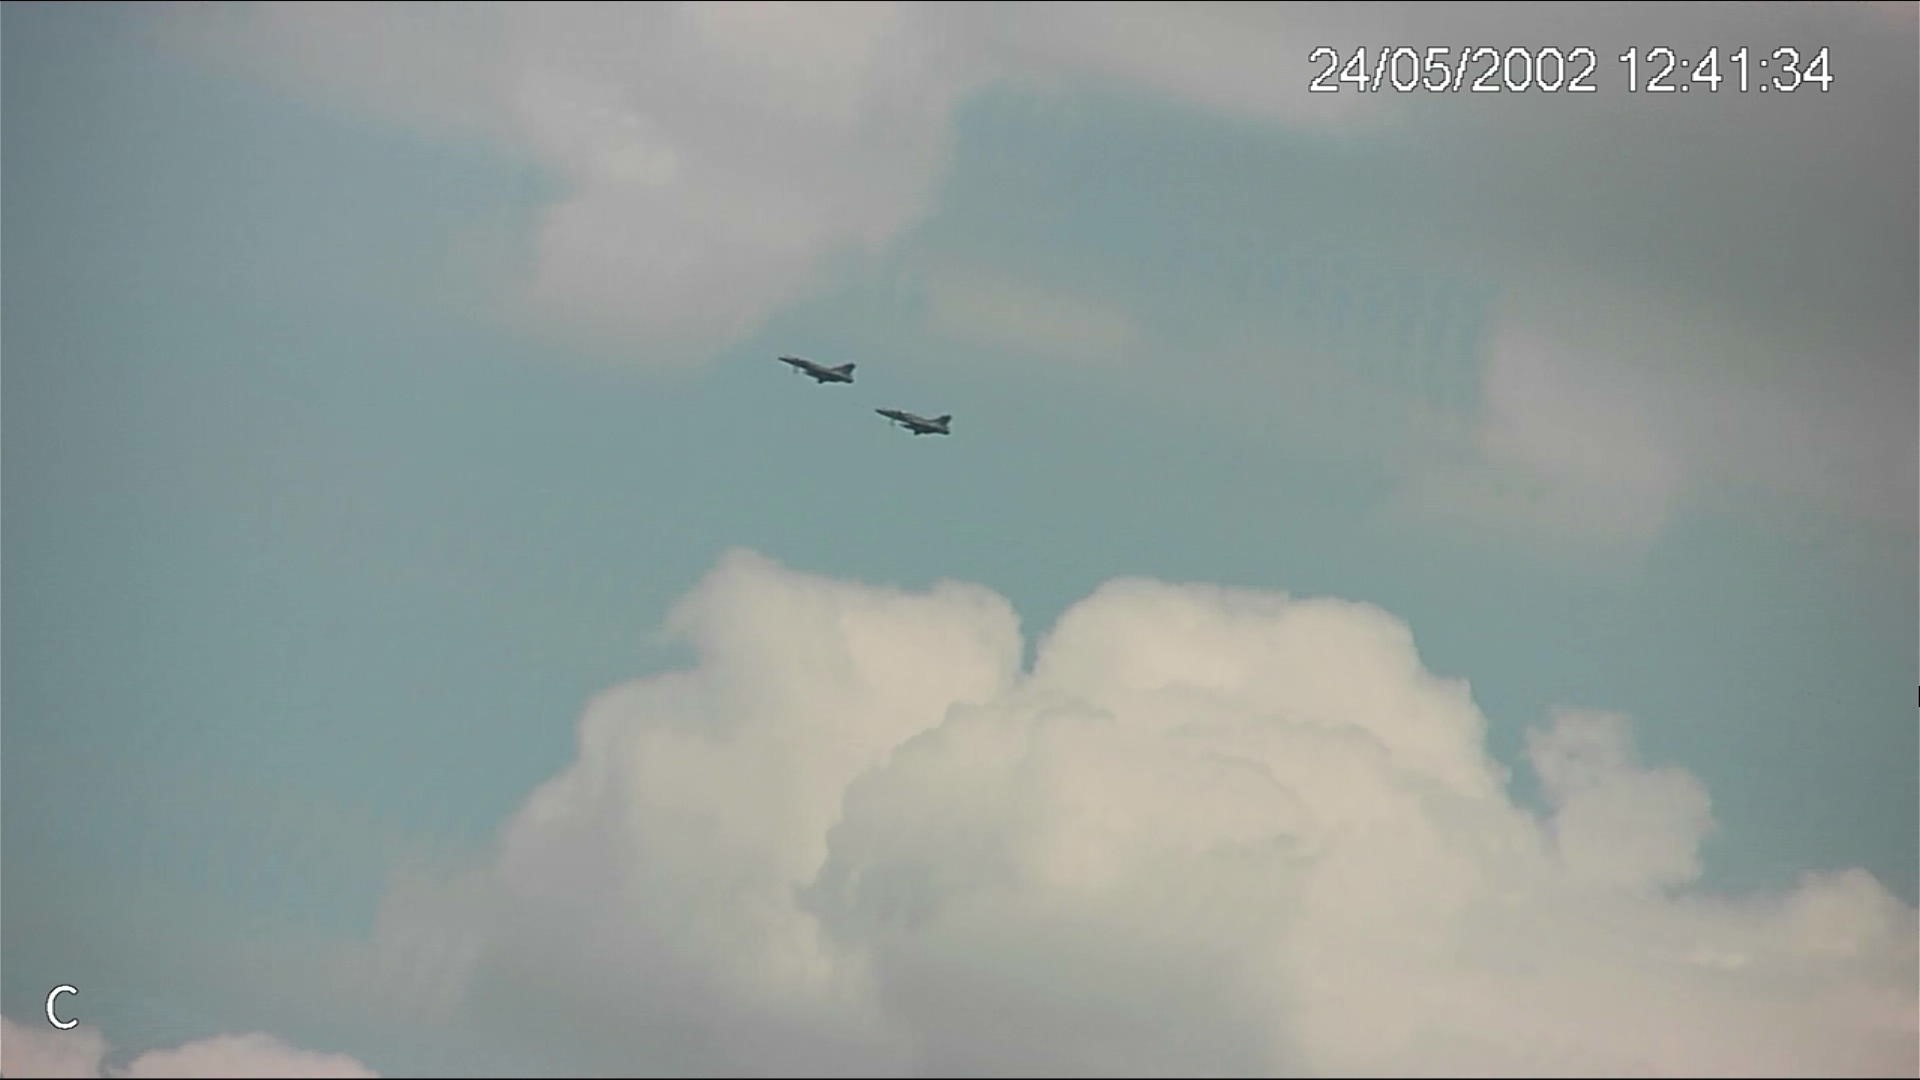SU_30: (774, 352, 858, 386), (872, 407, 956, 438)
